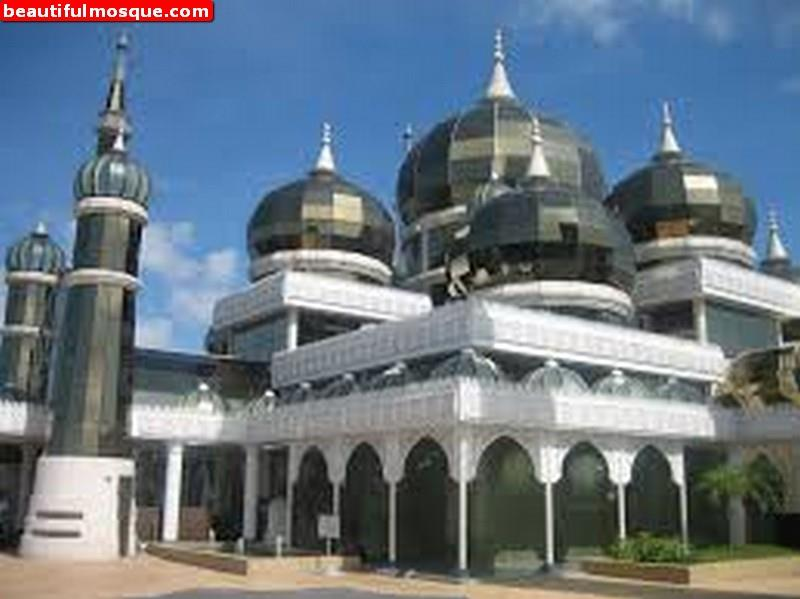Mosque: (12, 26, 784, 535)
